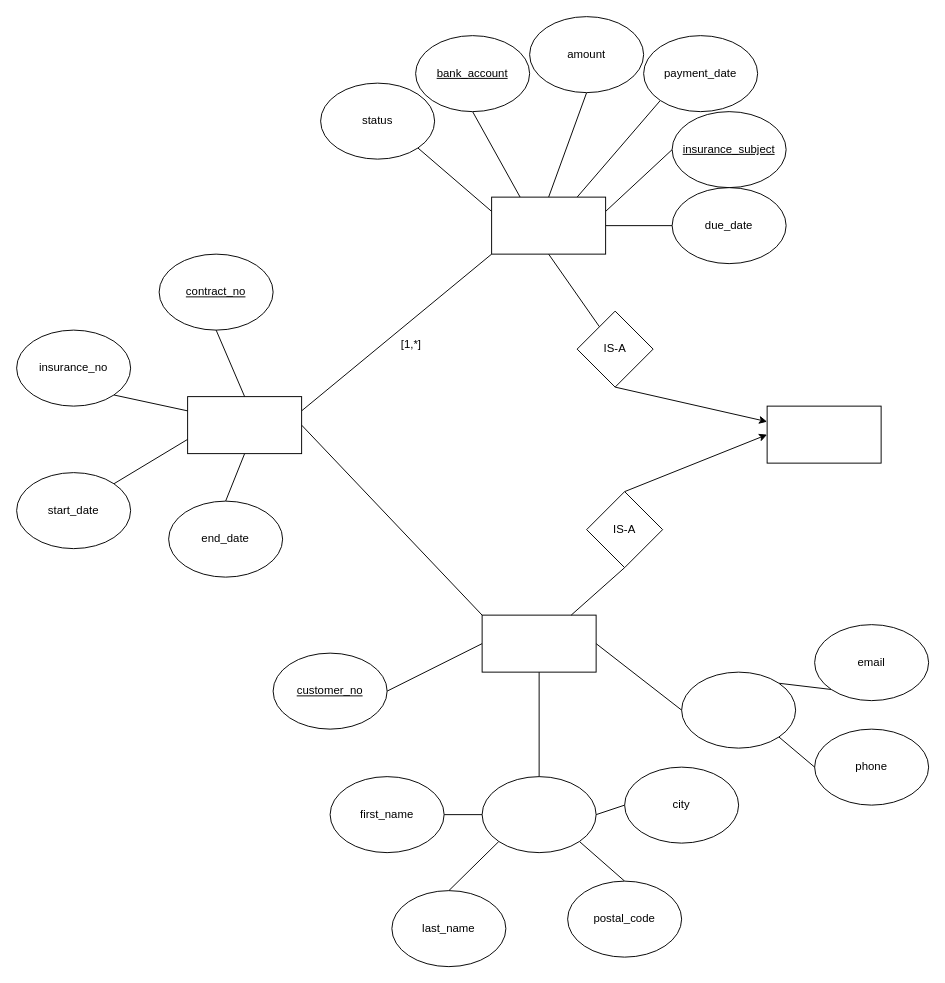
Image size: 945x983. Some labels were removed from this diagram. Each missing label, with the centre of its shape:
address: (x=538, y=814)
assignee: (x=548, y=225)
contact_info: (x=738, y=709)
customer: (x=538, y=643)
person: (x=823, y=434)
policy: (x=244, y=425)
